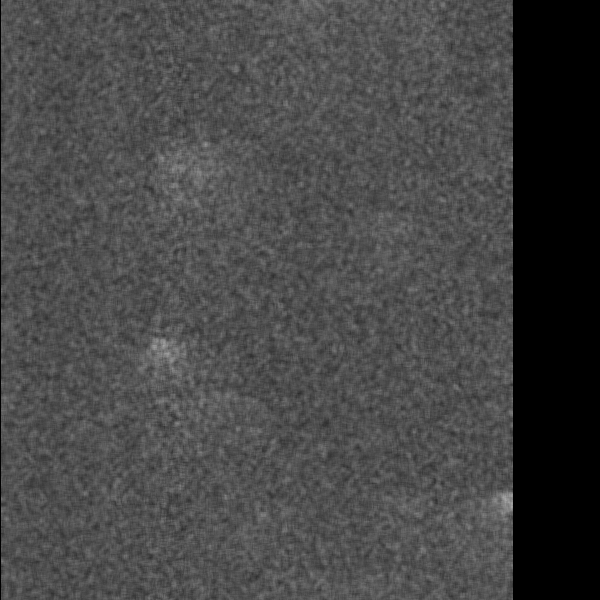spark: (143, 335, 171, 381), (503, 487, 517, 556)
